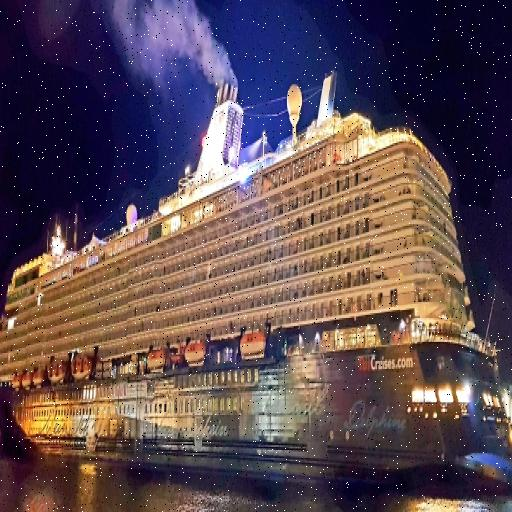cruises: (1, 63, 512, 500)
